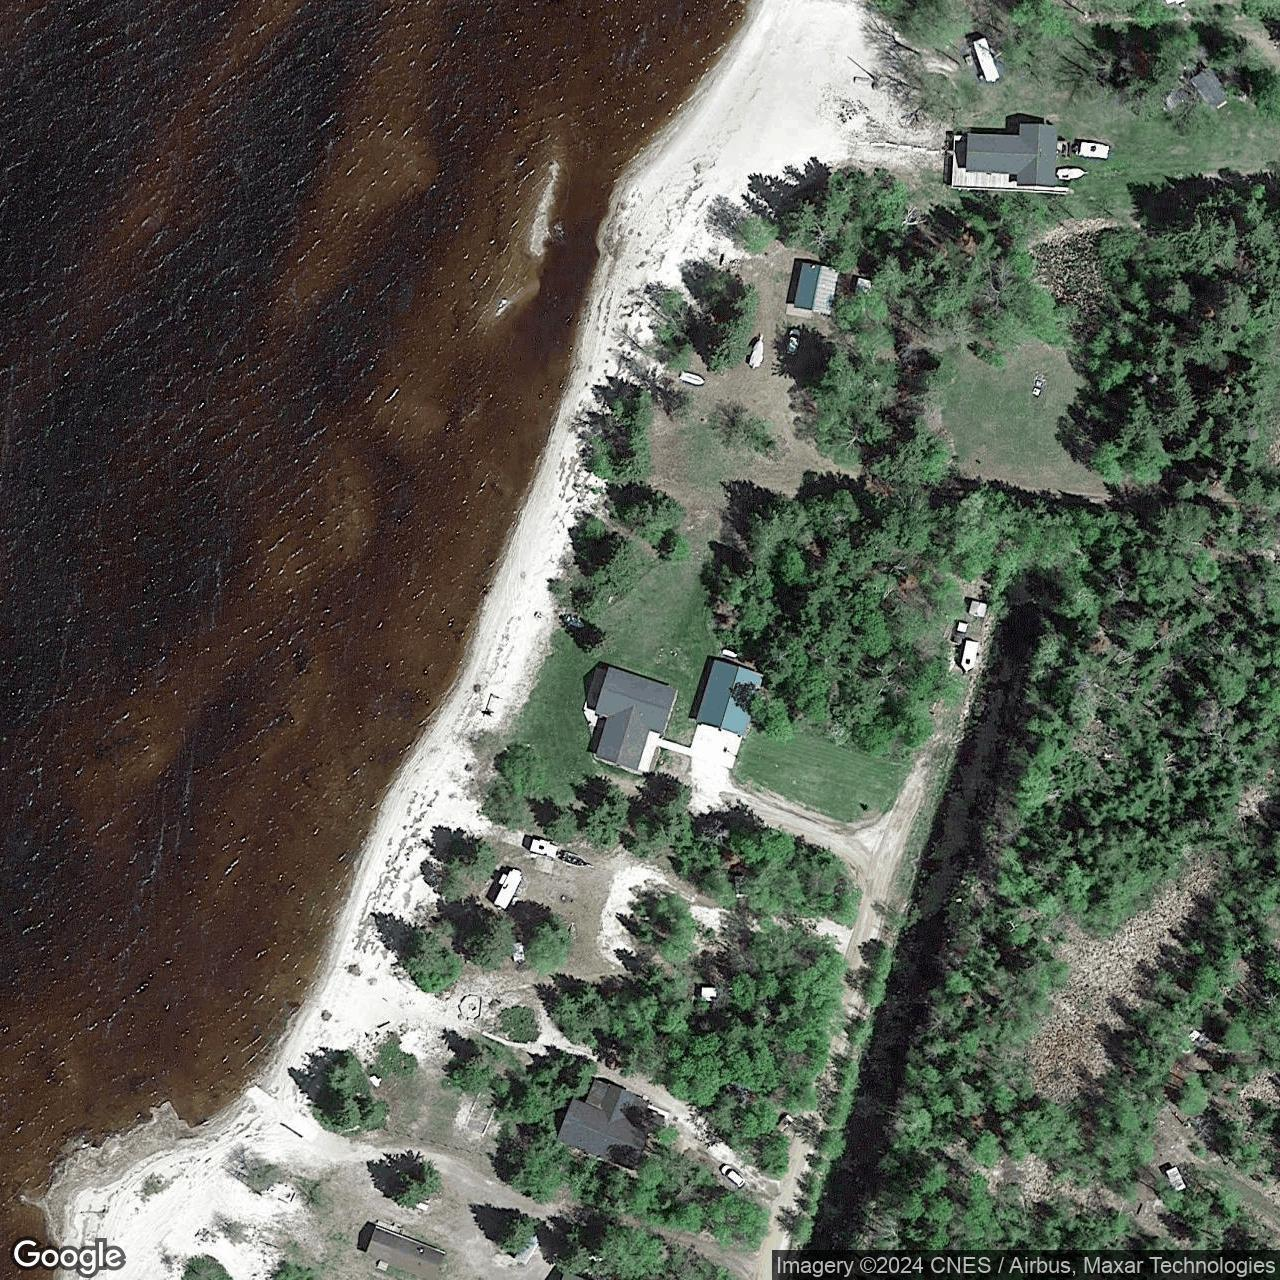Garage: (696, 659, 765, 740), (1190, 66, 1228, 108)
House: (594, 665, 680, 771), (556, 1083, 651, 1171), (965, 123, 1058, 188), (792, 261, 843, 318)
Propane: (720, 647, 738, 659), (1214, 100, 1228, 111)
Trailer: (365, 1224, 447, 1280), (493, 865, 526, 912), (972, 36, 1002, 84), (529, 838, 559, 859)
